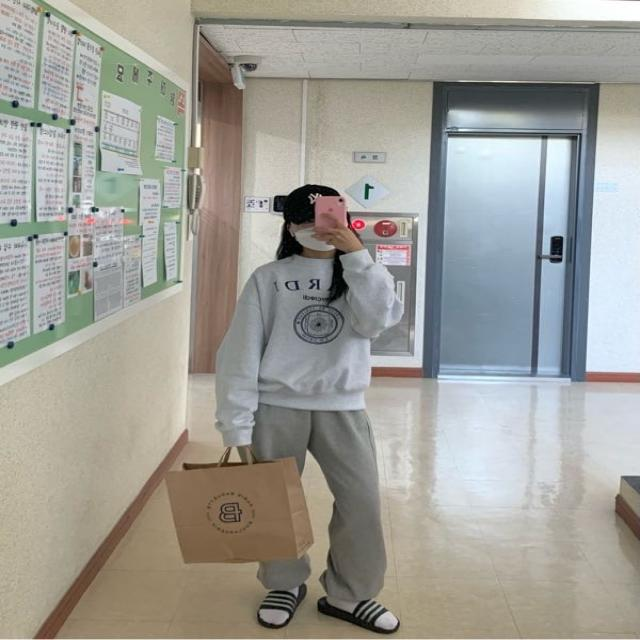mtm: (215, 244, 403, 443)
trainingpants: (247, 396, 383, 604)
